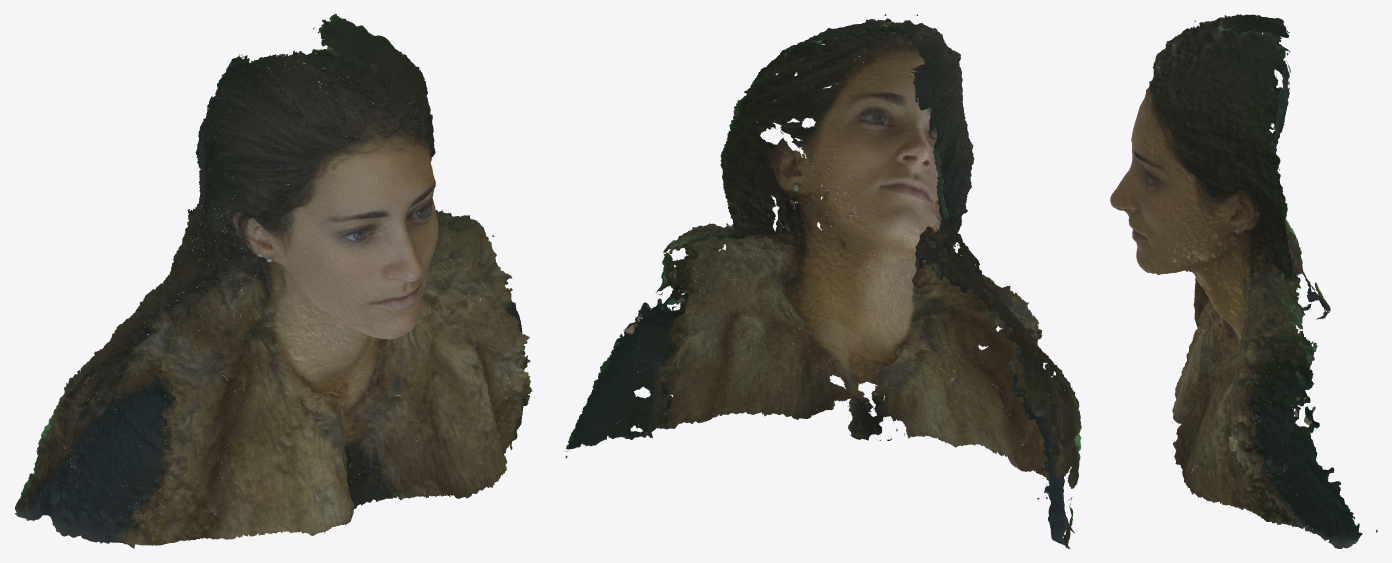
The model's file is sf-camila-3d-scan-9e6fa4.glb.
The picture shows the model from 3 angles, left to right: view 1: azimuth 30°, elevation 25°; view 2: azimuth 150°, elevation 25°; view 3: azimuth 270°, elevation 25°; orthographic projection. The views are drawn at different scales.
Visible parts, largest first — view 1: Object_11, Object_8, Object_12, Object_10, Object_14, Object_13, Object_2, Object_15, Object_4, Object_6, Object_3, Object_9 (+2 smaller); view 2: Object_10, Object_13, Object_2, Object_3, Object_8, Object_14, Object_15, Object_4, Object_9, Object_11, Object_12, Object_6 (+2 smaller); view 3: Object_9, Object_3, Object_10, Object_15, Object_4, Object_5, Object_2, Object_13, Object_8, Object_6, Object_7, Object_14 (+2 smaller).
Boxes of the visible parts, x1,y1,x2,y2 form: Object_11: (38, 55, 512, 535); Object_8: (58, 54, 446, 529); Object_12: (74, 66, 527, 520); Object_10: (21, 86, 493, 545); Object_14: (51, 70, 527, 548); Object_13: (15, 48, 477, 510); Object_2: (21, 54, 477, 543); Object_15: (15, 58, 530, 532); Object_4: (60, 58, 525, 545); Object_6: (44, 33, 532, 525); Object_3: (80, 66, 520, 532); Object_9: (79, 14, 522, 450); Object_10: (684, 29, 1080, 515); Object_13: (565, 20, 1072, 546); Object_2: (651, 35, 1081, 526); Object_3: (566, 30, 1063, 449); Object_8: (563, 40, 1079, 499); Object_14: (625, 20, 1080, 499); Object_15: (634, 106, 1070, 548); Object_4: (619, 14, 1064, 513); Object_9: (623, 19, 1060, 444); Object_11: (669, 33, 1067, 537); Object_12: (638, 30, 1064, 500); Object_6: (633, 20, 1077, 513); Object_9: (1150, 21, 1315, 431); Object_3: (1110, 61, 1362, 538); Object_10: (1139, 22, 1326, 487); Object_15: (1188, 16, 1329, 525); Object_4: (1149, 20, 1304, 523); Object_5: (1147, 23, 1319, 529); Object_2: (1177, 14, 1320, 400); Object_13: (1151, 20, 1377, 532); Object_8: (1111, 38, 1362, 548); Object_6: (1161, 14, 1320, 533); Object_7: (1159, 14, 1377, 532); Object_14: (1153, 30, 1303, 528).
Bounding box in the file's own units: 6.18 × 5.31 × 3.13.
14 materials, 14 textured.
